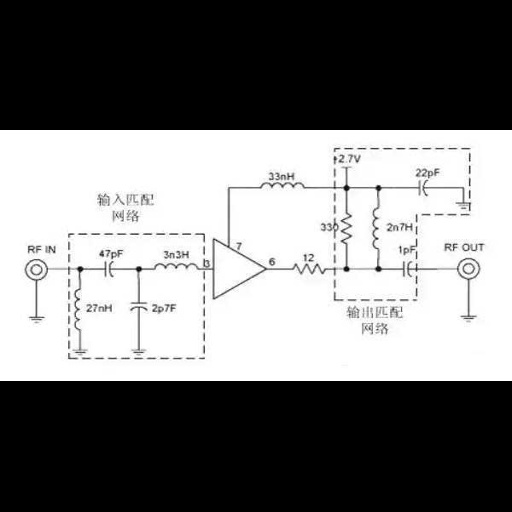amplifier: (209, 233, 268, 302)
gnd: (458, 314, 480, 324), (70, 347, 91, 357), (451, 200, 472, 210), (28, 315, 47, 326), (129, 348, 148, 357)
inductor: (368, 200, 383, 251), (148, 261, 201, 274), (259, 179, 307, 193), (72, 282, 84, 334)
secondresistance: (289, 259, 330, 280), (339, 209, 356, 247)
